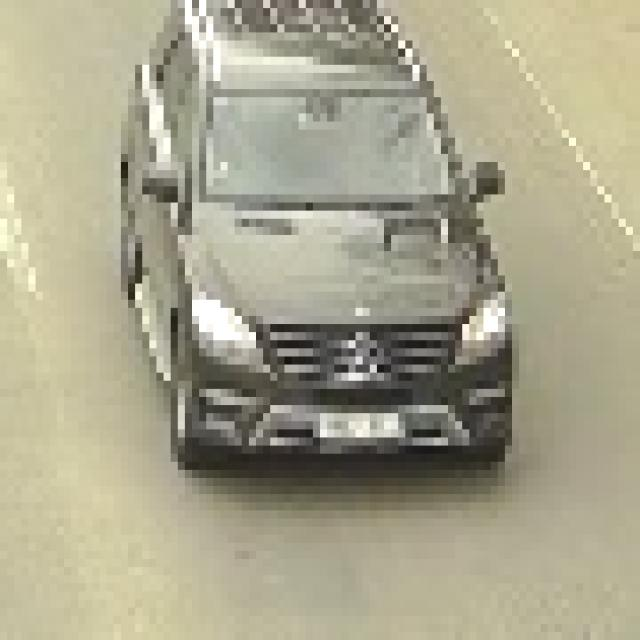SUV: (131, 0, 502, 472)
